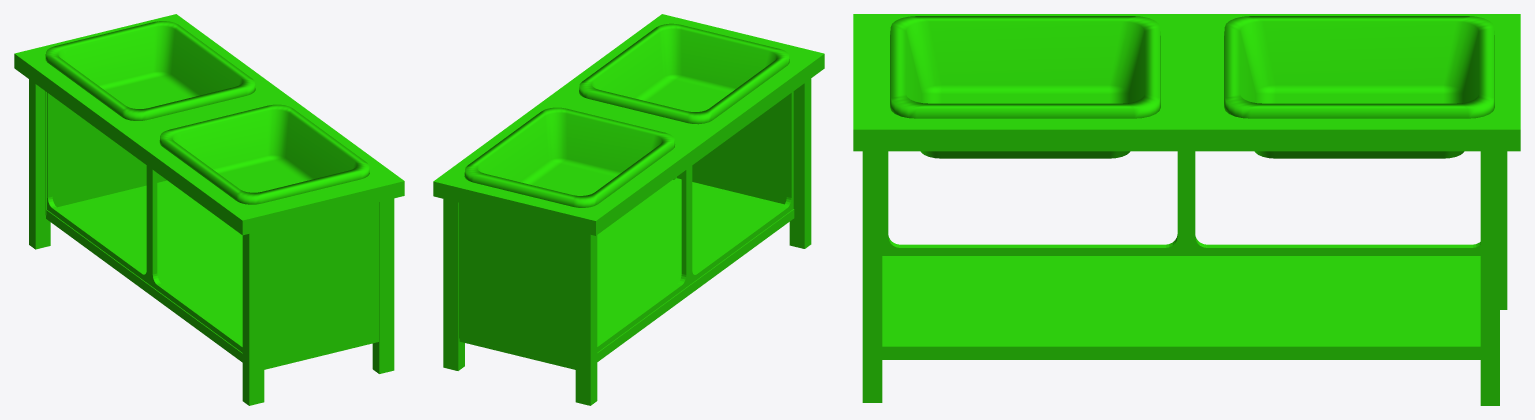
File: Restaurant_Cupboard_01.fbx
3 views of the same model, side by side, from view 1: azimuth 30°, elevation 25°; view 2: azimuth 150°, elevation 25°; view 3: azimuth 270°, elevation 25° (orthographic). The views are drawn at different scales.
Parts seen in each view (by area): view 1: Restaurant_Cupboard_01; view 2: Restaurant_Cupboard_01; view 3: Restaurant_Cupboard_01.
Boxes of the visible parts, bbox=[...] form: Restaurant_Cupboard_01: bbox=[14, 14, 404, 405]; Restaurant_Cupboard_01: bbox=[433, 14, 824, 405]; Restaurant_Cupboard_01: bbox=[853, 14, 1520, 405].
Bounding box in the file's own units: 71.51 × 82.86 × 174.
